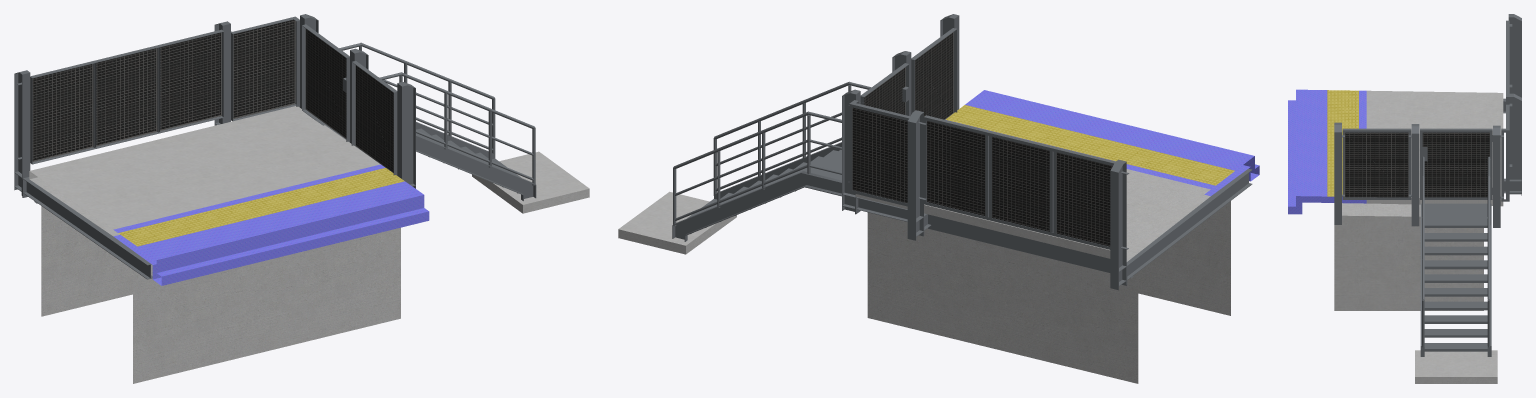
Rendered from Platform-C.fbx.
3 renders of one model, left to right at view 1: azimuth 30°, elevation 25°; view 2: azimuth 150°, elevation 25°; view 3: azimuth 270°, elevation 25°, orthographic. The views are drawn at different scales.
Parts seen in each view (by area): view 1: Platform-C; view 2: Platform-C; view 3: Platform-C.
Part boxes in pixels (<box>): Platform-C: <box>14,14,589,383</box>; Platform-C: <box>618,14,1259,383</box>; Platform-C: <box>1288,14,1521,383</box>.
Size of the model in its own units: 9.2 by 3.98 by 4.46.
